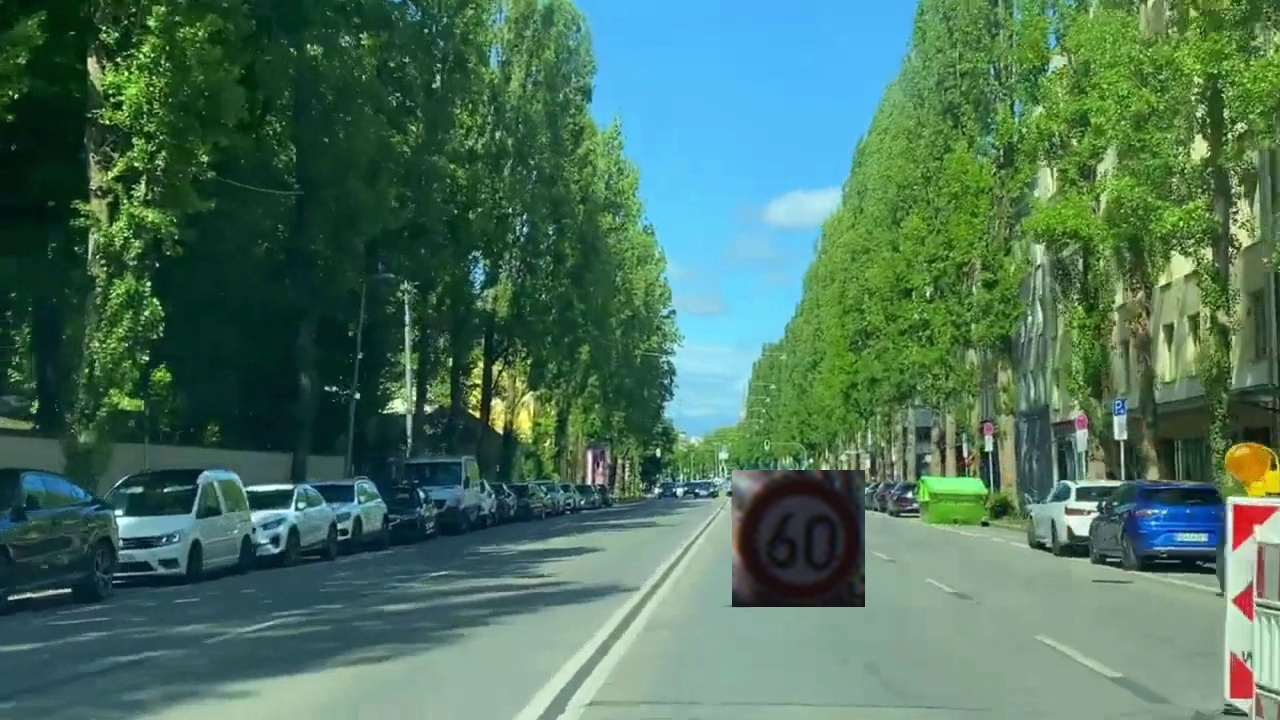Speed 60: (732, 470, 865, 607)
